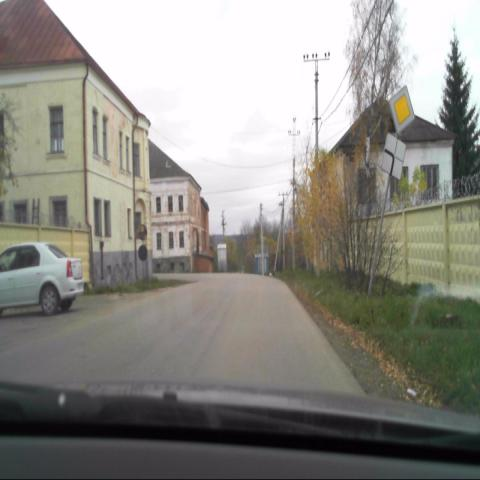2_1: (388, 86, 414, 135)
8_13: (380, 134, 406, 181)
